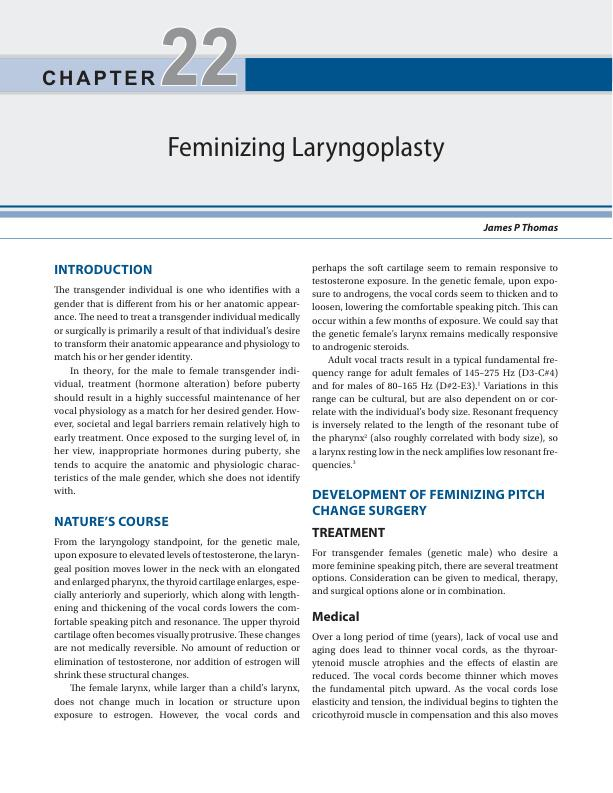chapter-heading: (166, 133, 448, 167)
section-heading: (312, 489, 545, 516), (54, 516, 169, 527), (54, 264, 152, 275)
sub-section-heading: (311, 527, 386, 538), (312, 610, 360, 622)
text: (53, 284, 301, 495), (311, 262, 558, 471), (53, 536, 300, 722), (310, 631, 560, 722), (311, 547, 559, 598)
